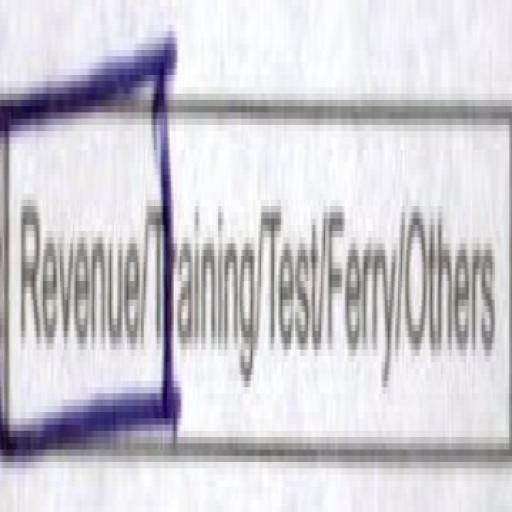check: (0, 0, 149, 477)
